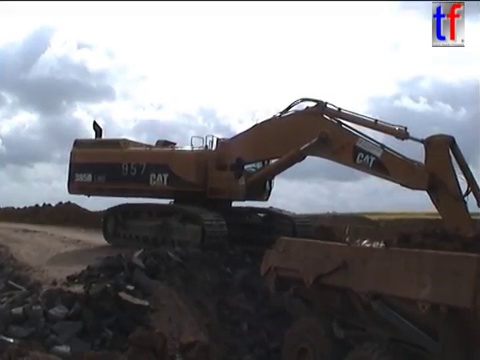excavator: (63, 94, 479, 287)
truck: (255, 215, 480, 360)
